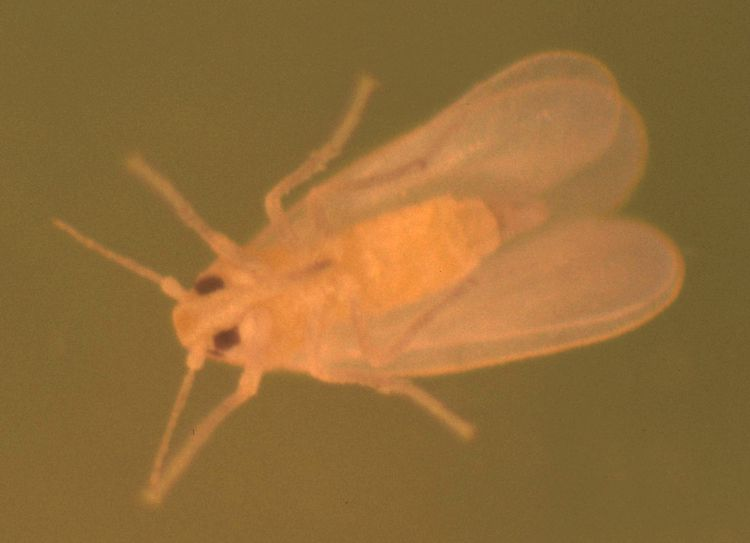whitefly: (51, 46, 685, 510)
